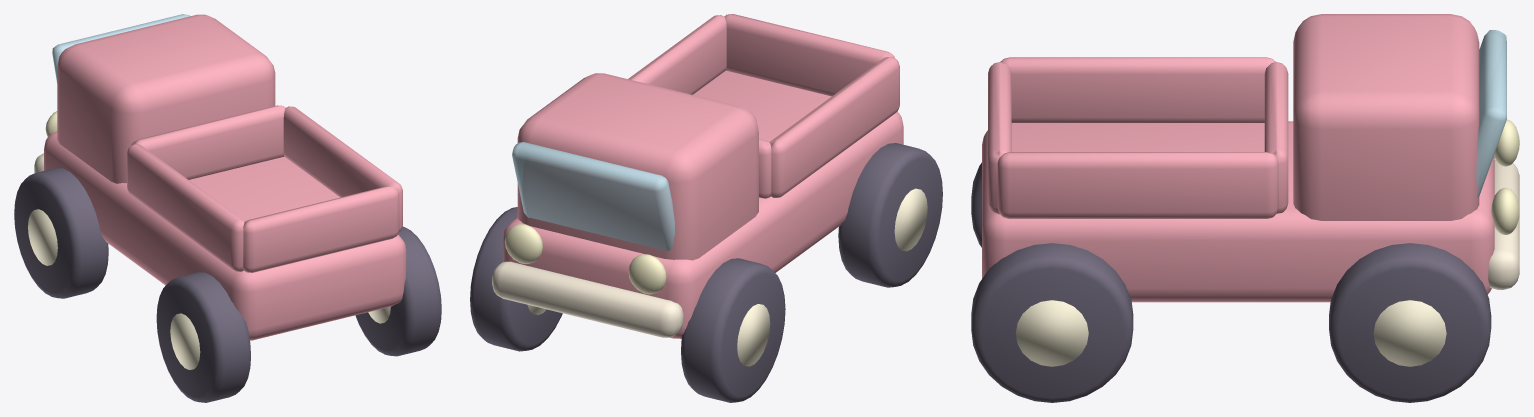
File: ToyTruck.glb
3 renders of one model, left to right at view 1: azimuth 30°, elevation 25°; view 2: azimuth 150°, elevation 25°; view 3: azimuth 270°, elevation 25°, orthographic. The views are drawn at different scales.
Parts seen in each view (by area): view 1: Body_Chassis, Body_Cabin, Body_RailBack, Wheel_LB, Wheel_LF, Body_RailR, Body_RailFront, Wheel_RB, Body_RailL, Wheel_LF_hub, Wheel_LB_hub, Glass_Windshield; view 2: Body_Cabin, Body_Chassis, Glass_Windshield, Wheel_LF, Wheel_LB, Body_RailR, Body_RailBack, Bumper, Wheel_RF, Body_RailL, Wheel_LF_hub, Wheel_LB_hub (+3 smaller); view 3: Body_Chassis, Body_Cabin, Body_RailL, Wheel_RB, Wheel_RF, Body_RailR, Wheel_RB_hub, Wheel_RF_hub, Glass_Windshield, Body_RailFront, Body_RailBack, Bumper (+3 smaller).
Part boxes in pixels (x1,y1,x2,y2): Body_Chassis: [44, 131, 406, 340]; Body_Cabin: [57, 14, 275, 183]; Body_RailBack: [243, 186, 399, 272]; Wheel_LB: [156, 272, 250, 402]; Wheel_LF: [14, 168, 108, 298]; Body_RailR: [127, 144, 244, 271]; Body_RailFront: [131, 105, 285, 179]; Wheel_RB: [355, 226, 441, 356]; Body_RailL: [283, 106, 402, 232]; Wheel_LF_hub: [28, 209, 57, 265]; Wheel_LB_hub: [170, 313, 200, 369]; Glass_Windshield: [52, 14, 190, 83]; Body_Cabin: [517, 73, 758, 260]; Body_Chassis: [503, 70, 903, 338]; Glass_Windshield: [512, 142, 674, 251]; Wheel_LF: [681, 258, 785, 402]; Wheel_LB: [838, 143, 942, 287]; Body_RailR: [769, 56, 899, 197]; Body_RailBack: [724, 14, 894, 96]; Bumper: [492, 261, 683, 337]; Wheel_RF: [470, 207, 562, 351]; Body_RailL: [628, 15, 726, 94]; Wheel_LF_hub: [737, 304, 770, 366]; Wheel_LB_hub: [894, 188, 927, 251]; Body_Chassis: [982, 121, 1494, 302]; Body_Cabin: [1293, 14, 1479, 220]; Body_RailL: [997, 152, 1278, 218]; Wheel_RB: [971, 243, 1133, 402]; Wheel_RF: [1329, 243, 1491, 402]; Body_RailR: [1000, 57, 1275, 122]; Wheel_RB_hub: [1015, 300, 1088, 366]; Wheel_RF_hub: [1373, 300, 1446, 366]; Glass_Windshield: [1476, 30, 1506, 197]; Body_RailFront: [1264, 62, 1288, 213]; Body_RailBack: [988, 62, 1011, 214]; Bumper: [1488, 160, 1519, 289].
Size of the model in its own units: 1.39 by 1.31 by 2.3.
